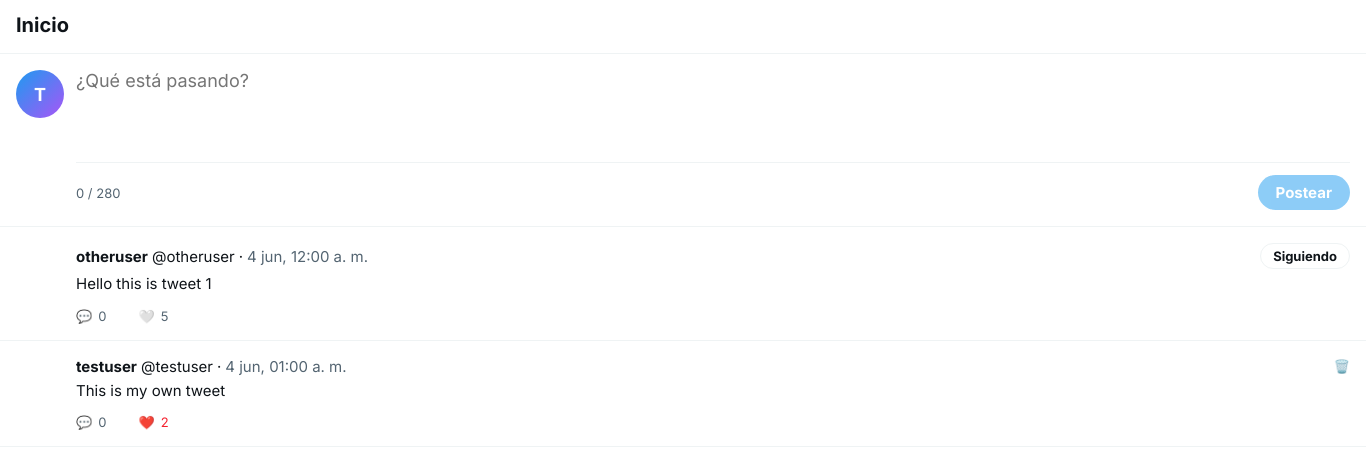
Test: Timeline Component Integration Tests › handles liking and unliking a tweet optimistically
Check: the text with test id "like-count-tweet-1" reads "5", box [161, 308, 168, 324]
Click the button with test id "like-btn-tweet-1": (153, 316) [138, 308, 168, 324]
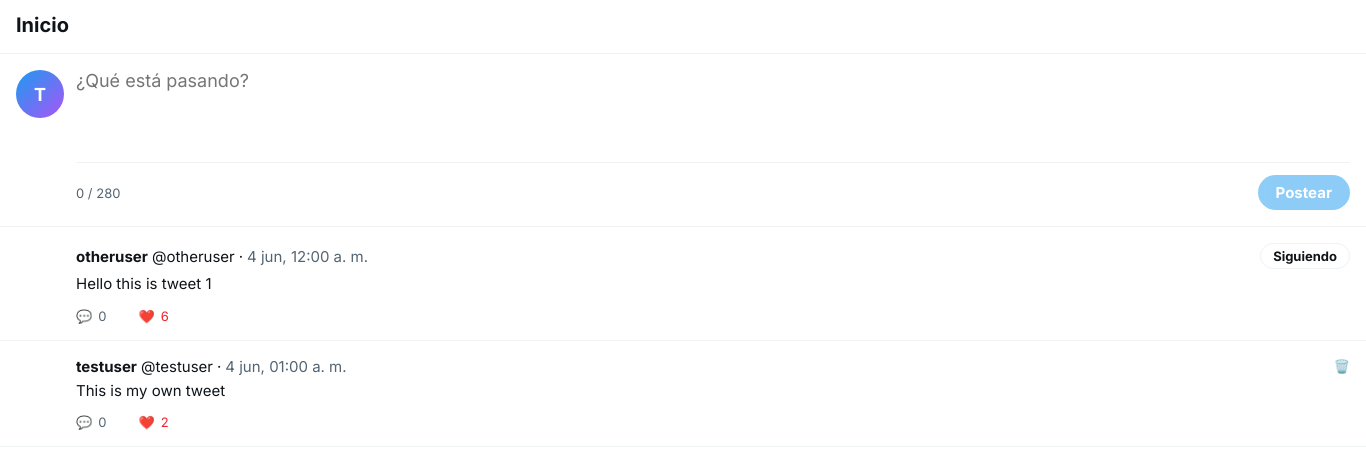
Check: the text with test id "like-count-tweet-2" reads "2", box [161, 414, 168, 430]
Check: the text with test id "like-count-tweet-1" reads "6", box [161, 308, 169, 324]
Click the button with test id "like-btn-tweet-2": (154, 422) [138, 414, 169, 430]
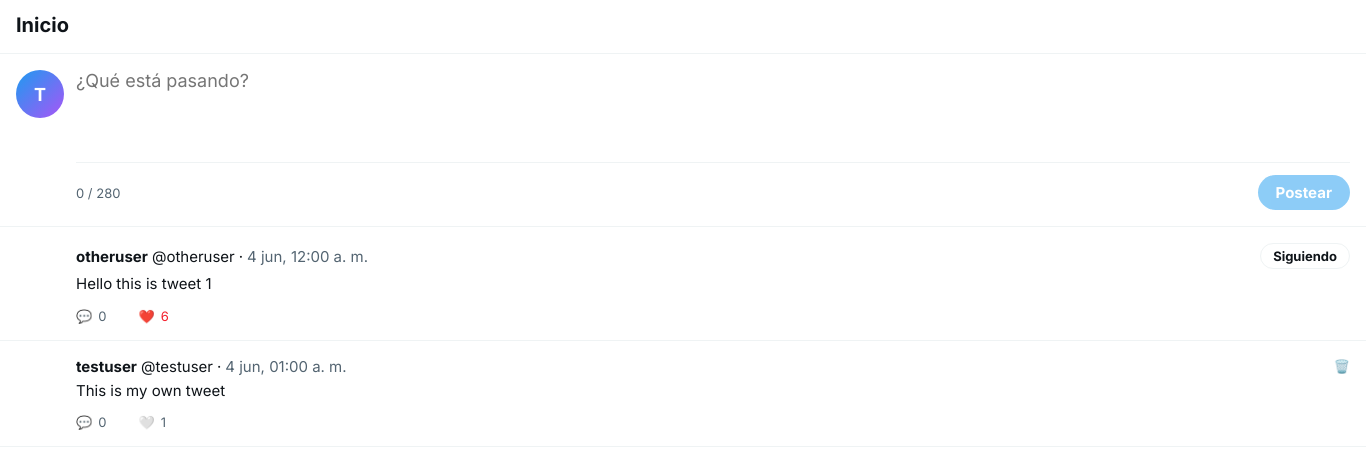
Check: the text with test id "like-count-tweet-2" reads "1", box [161, 414, 166, 430]
